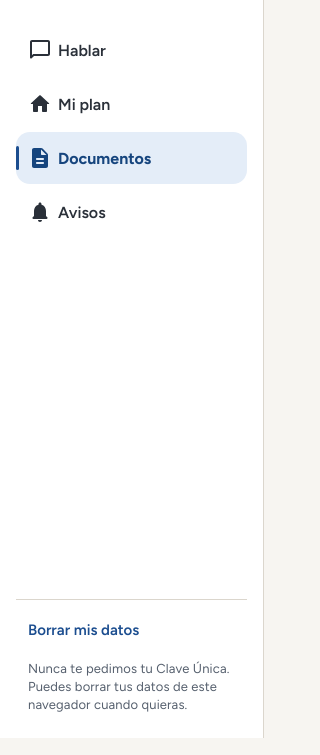
it: SidebarEscritorio › «Borrar mis datos» pide confirmar: el primer clic no borra nada todavía
The width and height of the screenshot is (320, 755).
Click the button "Borrar mis datos" at (132, 630), box x1=16 y1=606 x2=247 y2=654
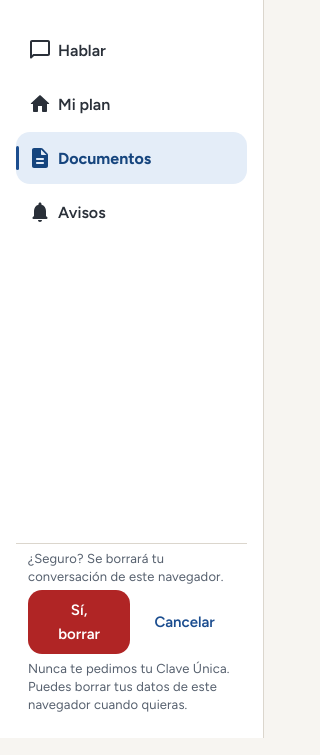
Expected: the button "Sí, borrar" is shown, x1=28 y1=590 x2=130 y2=654
Expected: the text "¿Seguro? Se borrará tu conversación de este navegador." is shown, x1=28 y1=550 x2=235 y2=586
